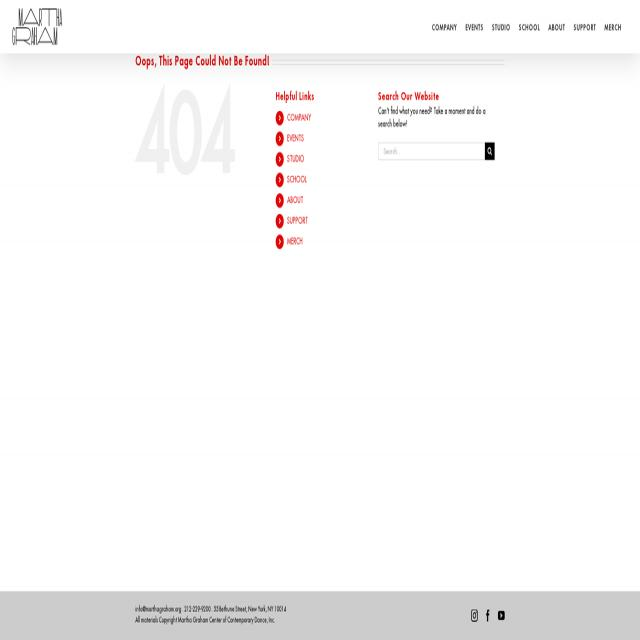button: (12, 6, 62, 47), (432, 0, 457, 52), (573, 0, 596, 52), (518, 0, 539, 52), (491, 0, 510, 52), (465, 0, 483, 52), (548, 0, 565, 52), (604, 0, 621, 52), (485, 142, 495, 160), (471, 610, 478, 621), (498, 610, 504, 621), (485, 610, 491, 621)
field: (378, 142, 485, 160)
